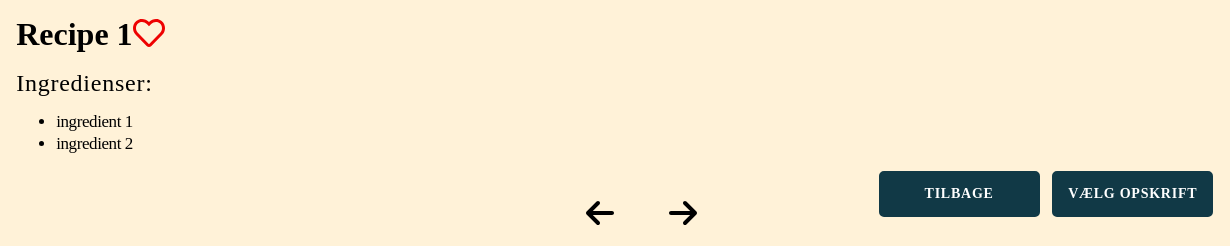
Test: Recipe changes after pressing arrow left
Expected: the heading "Recipe 1" is shown, [16,16,165,52]
Click the picture with test id "selectArrowLeft".
click(600, 213)  # box [586,197,614,229]
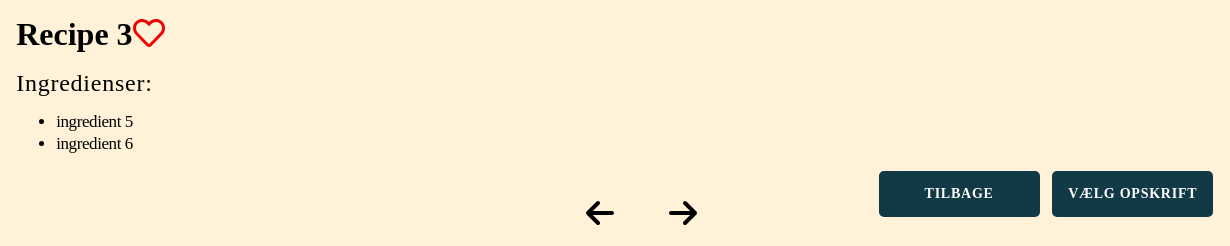
Expected: the heading "Recipe 3" is shown, [16,16,165,52]
